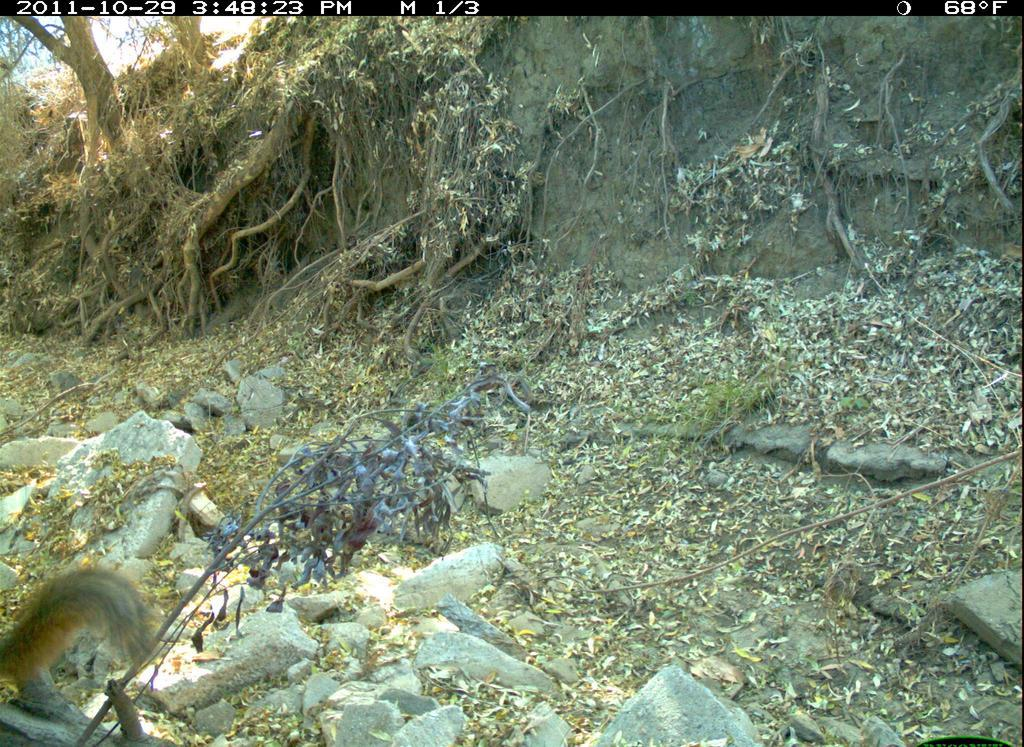squirrel: (3, 559, 173, 712)
